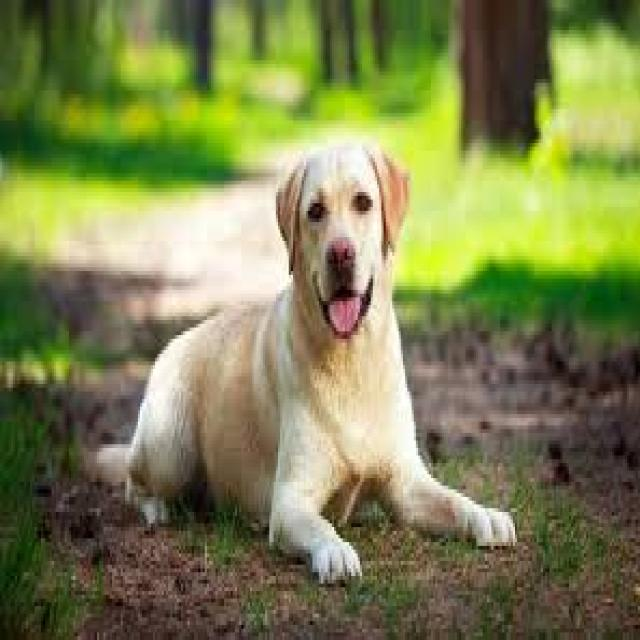Abrador: (90, 147, 518, 582)
